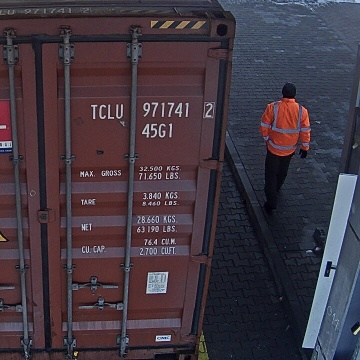serial_id: (91, 102, 213, 118)
